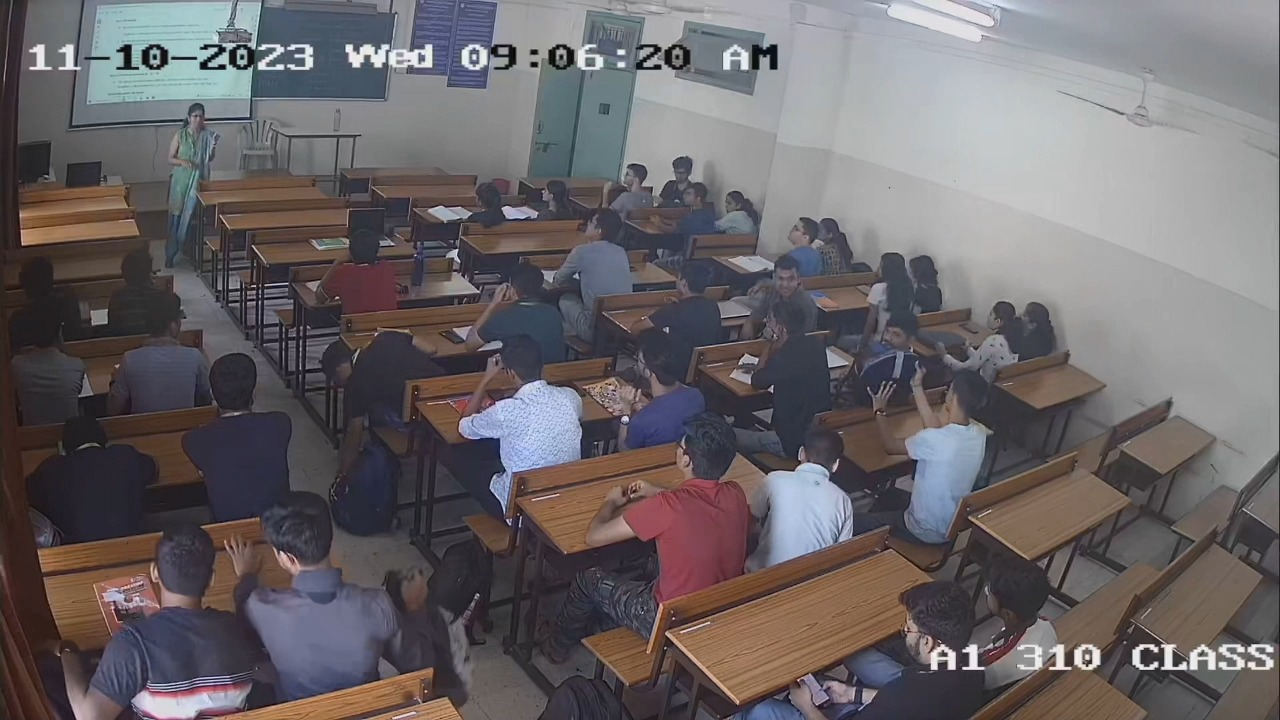cell-phones: (795, 666, 830, 712), (437, 328, 467, 345), (485, 387, 513, 401), (960, 322, 979, 336)
person: (855, 575, 988, 720), (471, 335, 581, 464), (473, 264, 572, 360), (931, 301, 1019, 371)
